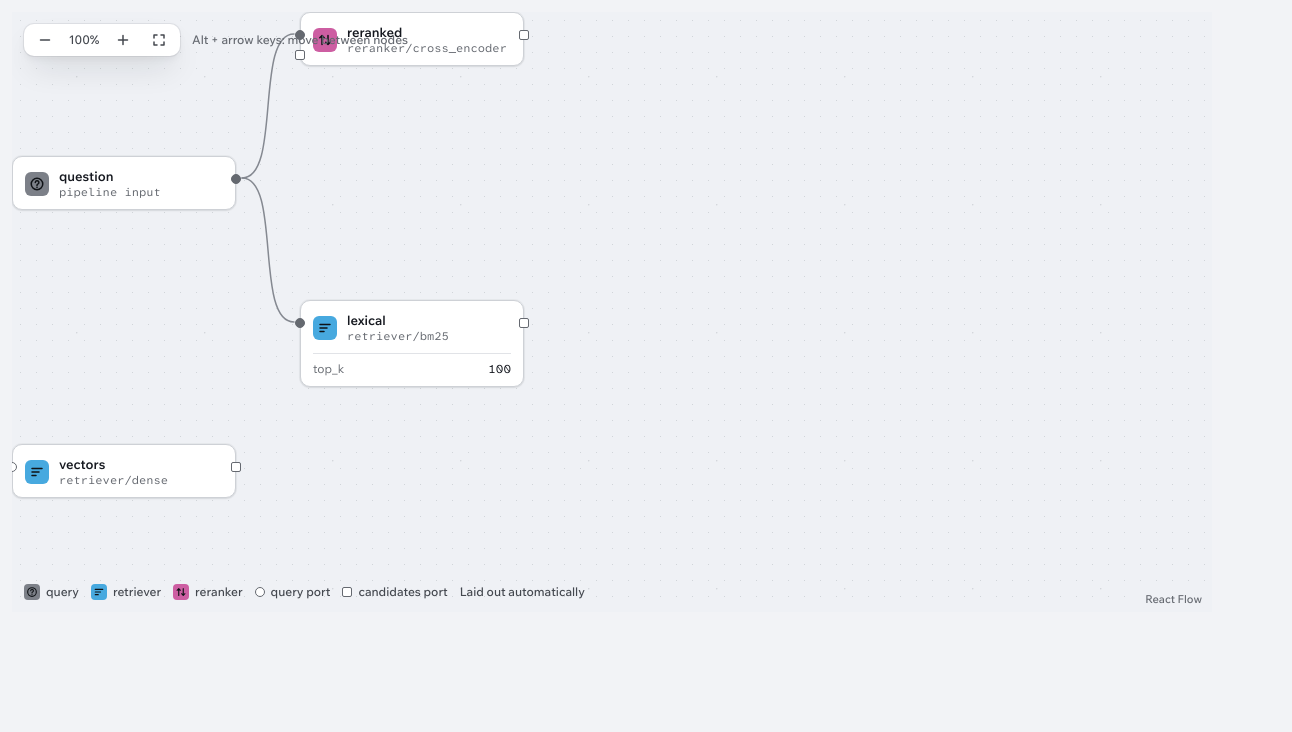
Test: Canvas in write mode, an edge drawn by drag › shows, while the status line is silent, how to move between nodes — beside the live region, never inside it
expect the text with class "rg-canvas__hint" reads "Alt + arrow keys: move between nodes": met, box [192,32,408,47]
Press the mouse on the 4th element with class "rg-port" at (236, 179), box [231,174,241,184]
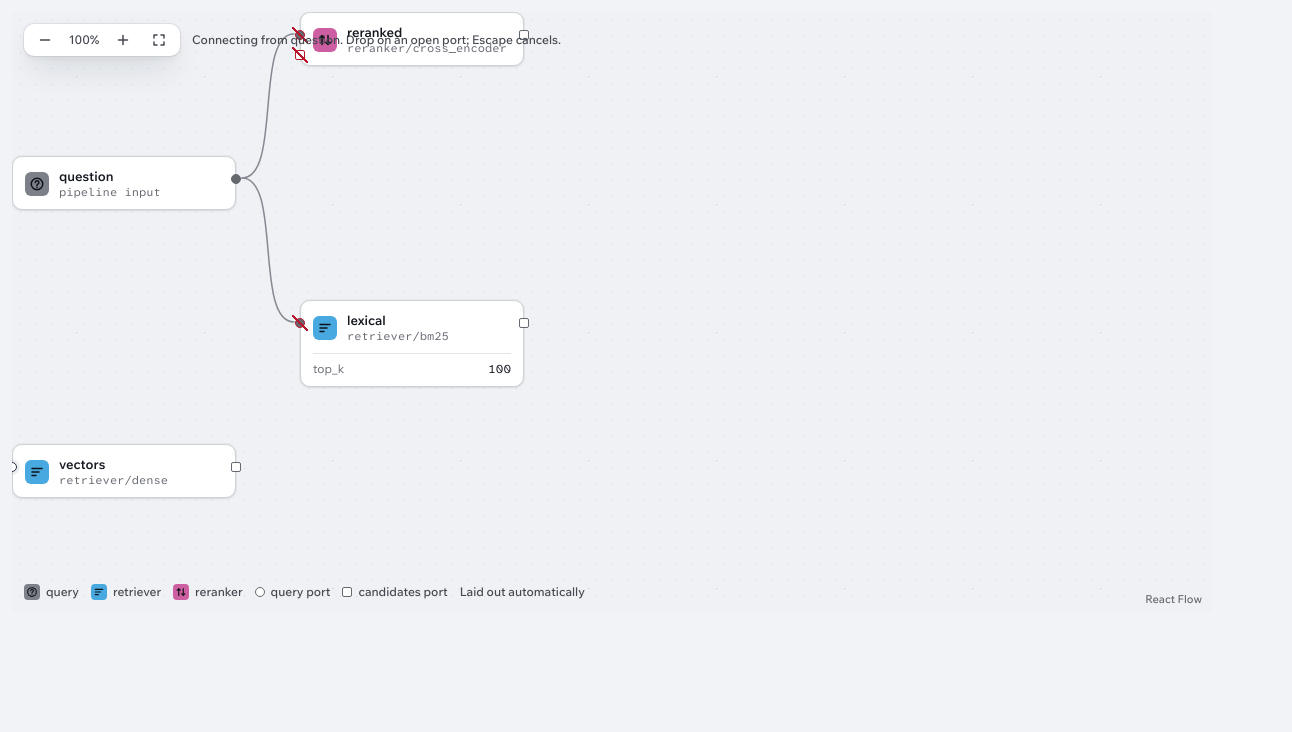
expect the text with class "rg-canvas__hint" is gone: met
